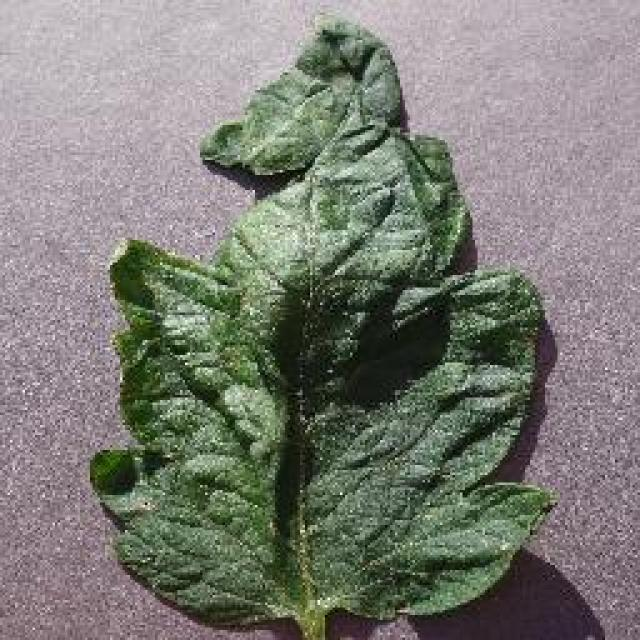Tom_Target_Spot: (225, 128, 391, 382)
